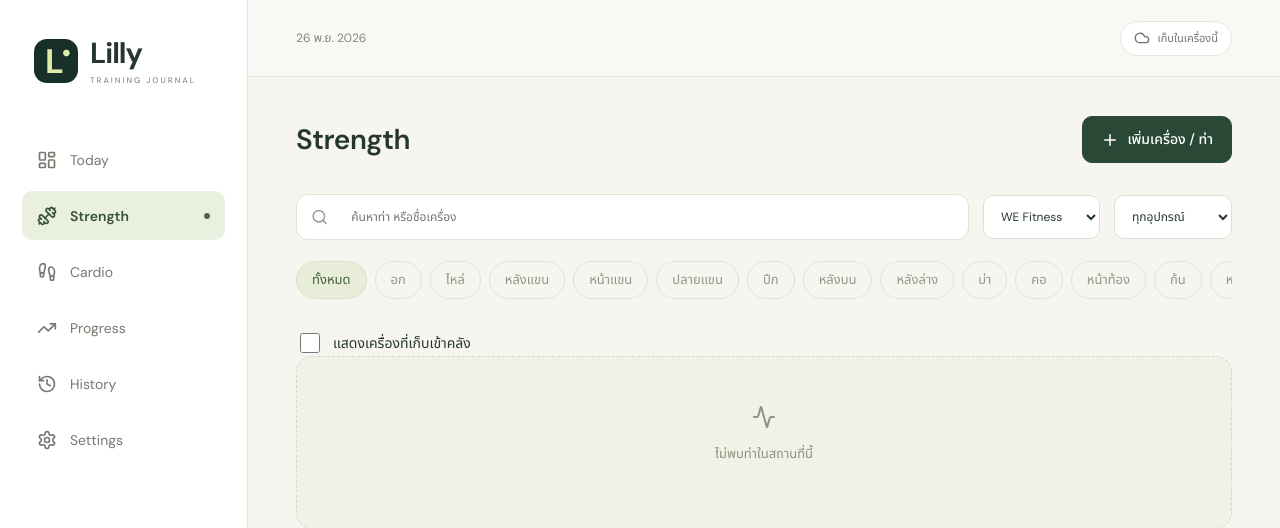
Test: shows Forward Lunge under the home filter with editable photos
Later steps or results of the test are not shown.
Select "ที่บ้าน" in the dropdown named "ฟิตเนส" at (1042, 217), box [983,195,1100,239]
(page scrolled)
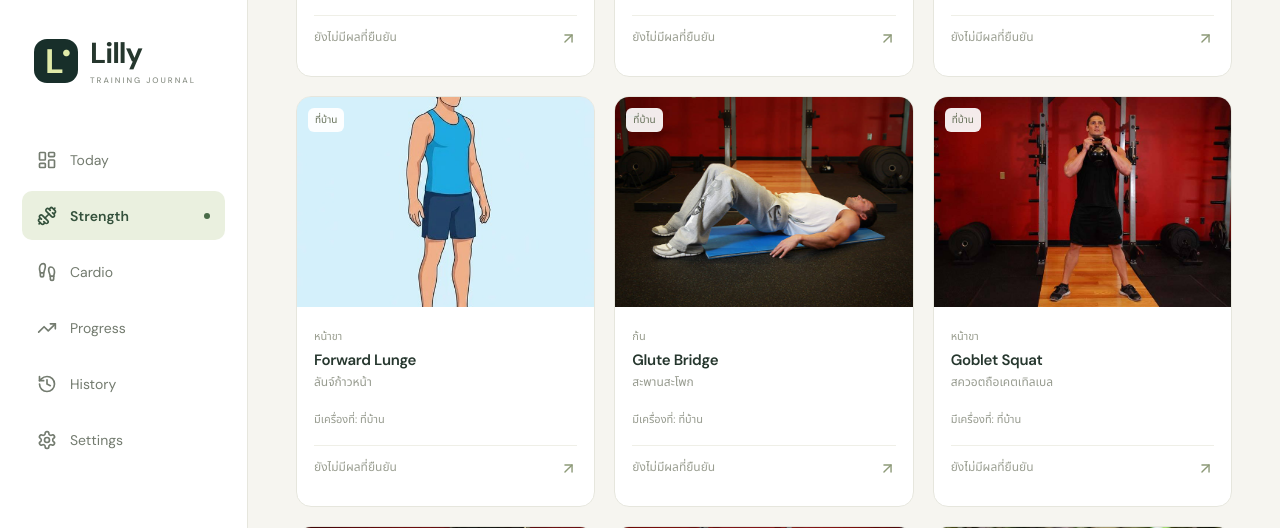
Result: the heading "Goblet Squat" is shown at [951,350,1042,370]
Click the heading "Forward Lunge" at (365, 360), box [314,350,416,370]
(page scrolled)
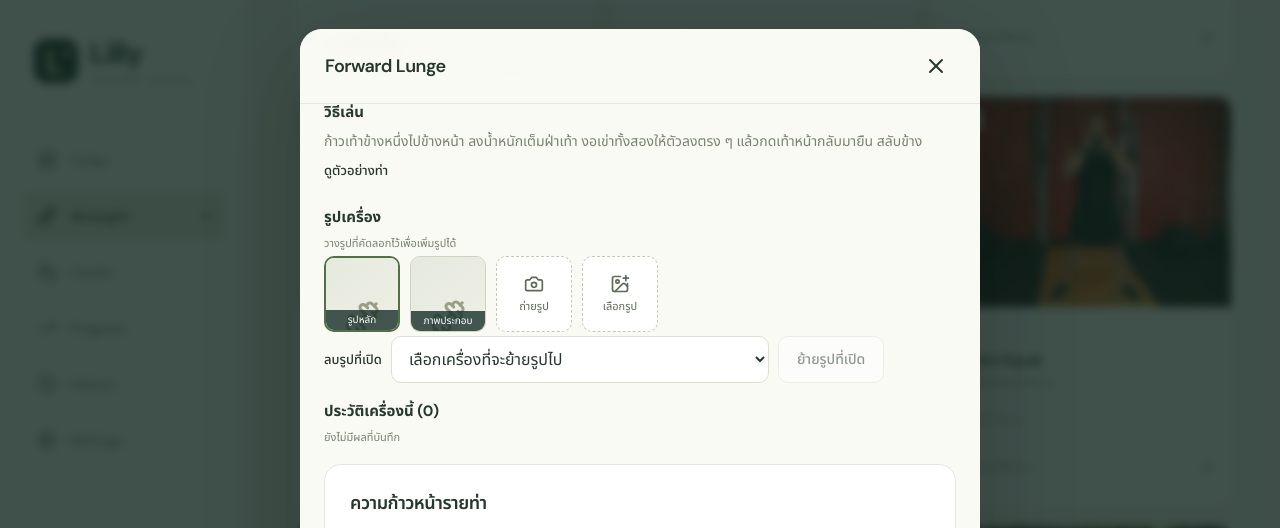
Result: the button "รูปหลัก" is shown at [324,256,400,332]
Result: the number of buttons named "เปิดรูปเครื่อง" is 1 at [410,256,486,332]
Result: the file field labelled "เลือกรูป" is shown at [582,256,658,332]
